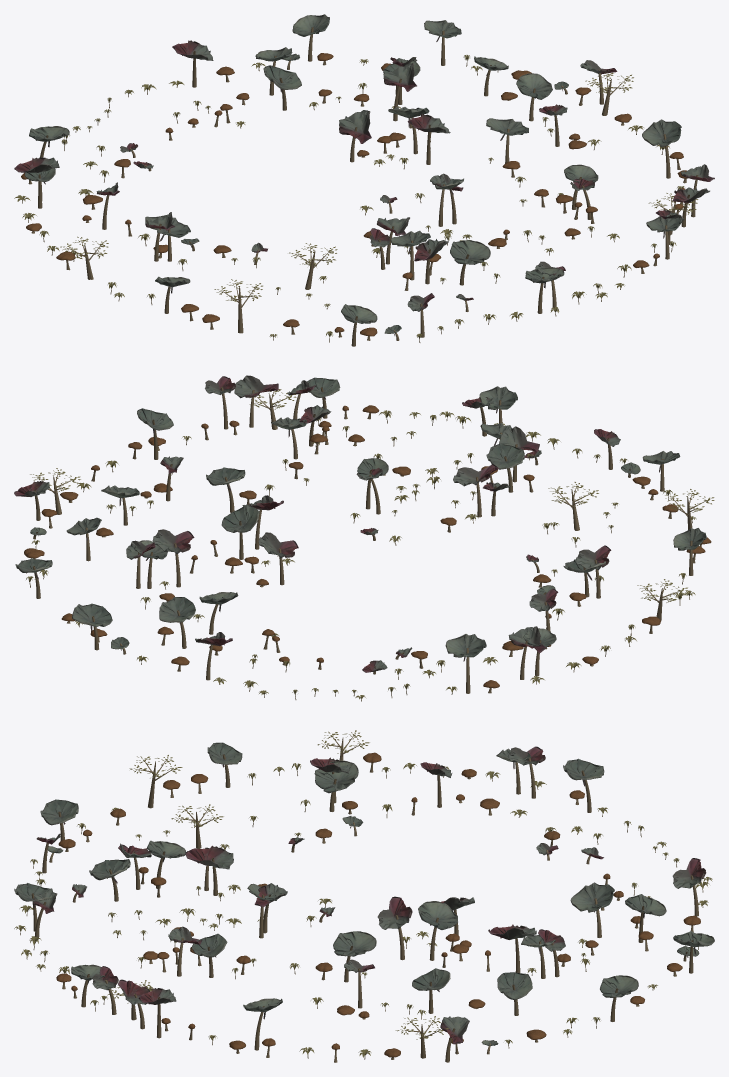
File: forest_vegetation_v12.glb
3 renders of one model, top to bottom at view 1: azimuth 30°, elevation 25°; view 2: azimuth 150°, elevation 25°; view 3: azimuth 270°, elevation 25°, orthographic. The views are drawn at different scales.
Visible parts, largest first — view 1: Complete_Vegetation_Original_Fans, Complete_Vegetation_Fibrous rooted stems, Complete_Vegetation_Woodland cap ochre, Complete_Vegetation_Papery leaf pigment; view 2: Complete_Vegetation_Original_Fans, Complete_Vegetation_Fibrous rooted stems, Complete_Vegetation_Woodland cap ochre, Complete_Vegetation_Papery leaf pigment; view 3: Complete_Vegetation_Original_Fans, Complete_Vegetation_Fibrous rooted stems, Complete_Vegetation_Woodland cap ochre, Complete_Vegetation_Papery leaf pigment.
Boxes of the visible parts, x1=… form: Complete_Vegetation_Original_Fans: x1=14, y1=14, x2=714, y2=335; Complete_Vegetation_Fibrous rooted stems: x1=22, y1=27, x2=698, y2=346; Complete_Vegetation_Woodland cap ochre: x1=21, y1=53, x2=688, y2=336; Complete_Vegetation_Papery leaf pigment: x1=14, y1=55, x2=698, y2=338; Complete_Vegetation_Original_Fans: x1=14, y1=375, x2=706, y2=672; Complete_Vegetation_Fibrous rooted stems: x1=26, y1=387, x2=705, y2=701; Complete_Vegetation_Woodland cap ochre: x1=24, y1=405, x2=711, y2=688; Complete_Vegetation_Papery leaf pigment: x1=26, y1=389, x2=714, y2=699; Complete_Vegetation_Original_Fans: x1=14, y1=742, x2=714, y2=1045; Complete_Vegetation_Fibrous rooted stems: x1=20, y1=736, x2=707, y2=1062; Complete_Vegetation_Woodland cap ochre: x1=56, y1=752, x2=700, y2=1057; Complete_Vegetation_Papery leaf pigment: x1=14, y1=730, x2=712, y2=1057.
Size of the model in its own units: 70.5 by 6.71 by 67.7.
4 materials, 3 textured.
